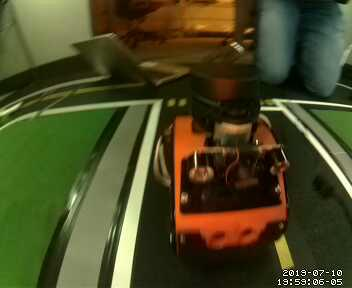pheeno: (161, 64, 288, 250)
